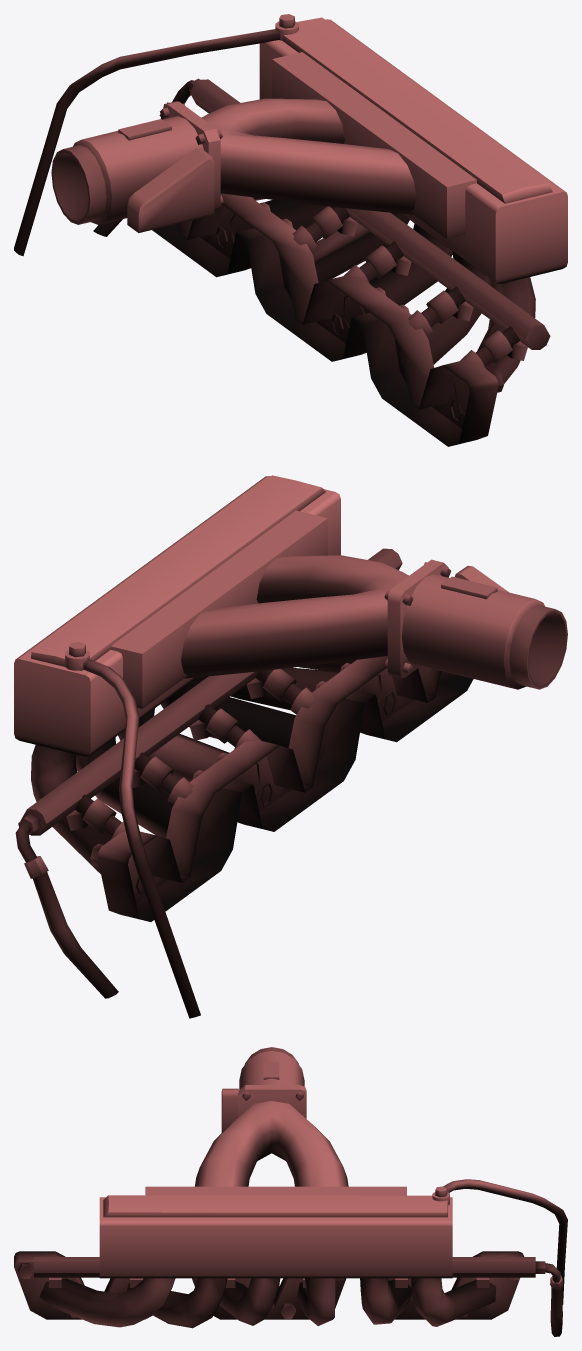
Rendered from JZ_IntakeManifold1.fbx.
The picture shows the model from 3 angles, top to bottom: view 1: azimuth 30°, elevation 25°; view 2: azimuth 150°, elevation 25°; view 3: azimuth 270°, elevation 25°; orthographic projection. The views are drawn at different scales.
Visible parts, largest first — view 1: IntakeManifold1; view 2: IntakeManifold1; view 3: IntakeManifold1.
Part boxes in pixels (x1,y1,x2,y2): IntakeManifold1: (14, 14, 567, 446); IntakeManifold1: (14, 475, 567, 1018); IntakeManifold1: (14, 1047, 567, 1336).
Size of the model in its own units: 45.29 by 32.21 by 76.13.
